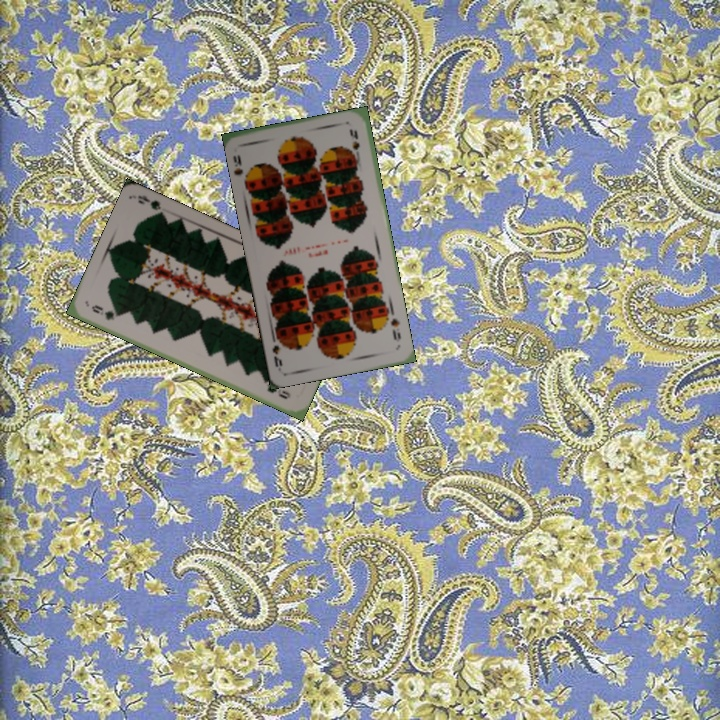G9: (88, 301, 122, 323)
S9: (229, 150, 252, 186), (387, 314, 403, 345)
